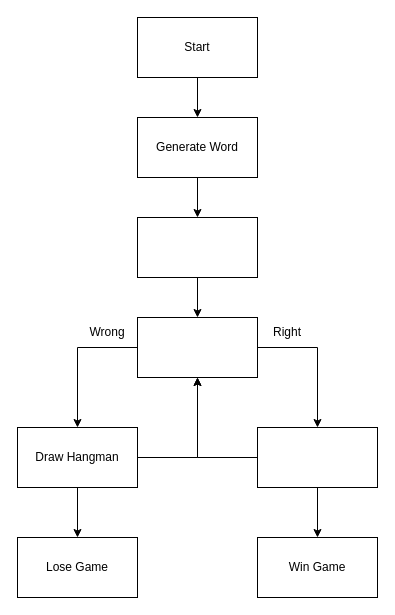
Image size: 395x615. Some labels were removed from this diagram. The shapes that lost their labels are listed below. From the top down, each one's centre as x and y in pixels, then its label:
point (197, 247): Underscores for every letter
point (197, 347): Guess letter
point (317, 457): Reveal letter
